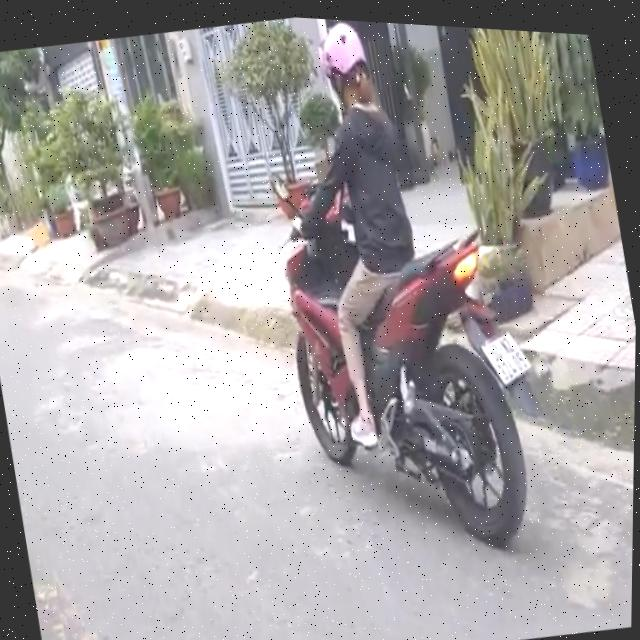motorcycle: (240, 116, 575, 587)
plate: (470, 323, 538, 393)
